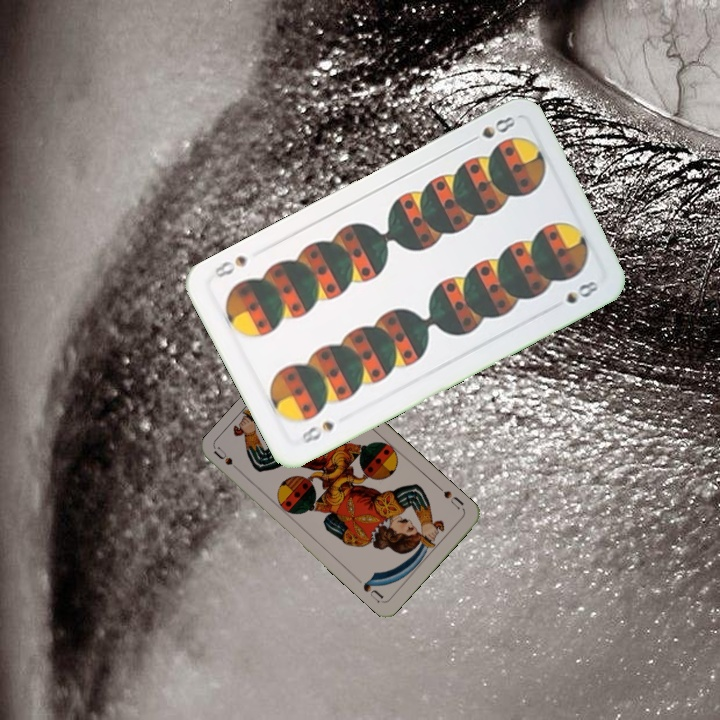S8: (463, 112, 518, 147), (297, 416, 337, 447)
SU: (210, 444, 245, 477), (433, 482, 466, 512)
